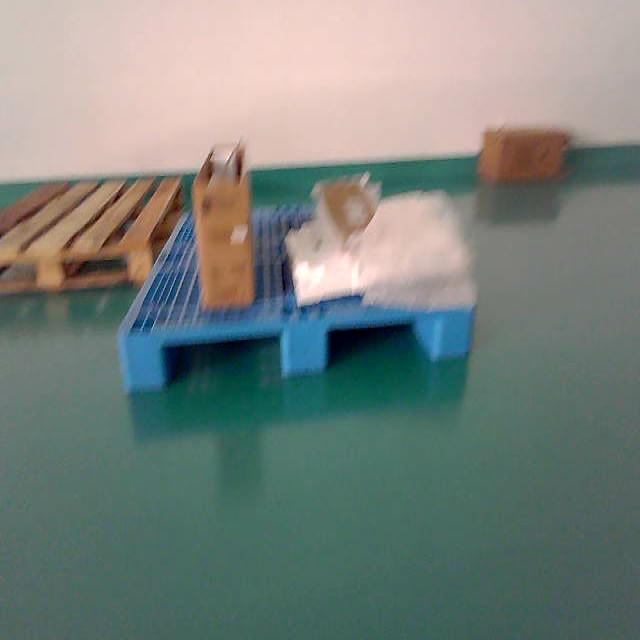euro: (0, 177, 181, 293)
